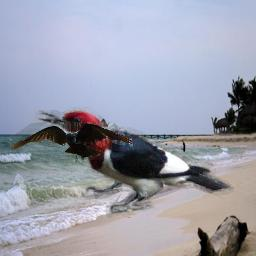Crow: (11, 122, 134, 164)
Woodpecker: (31, 105, 234, 218)
